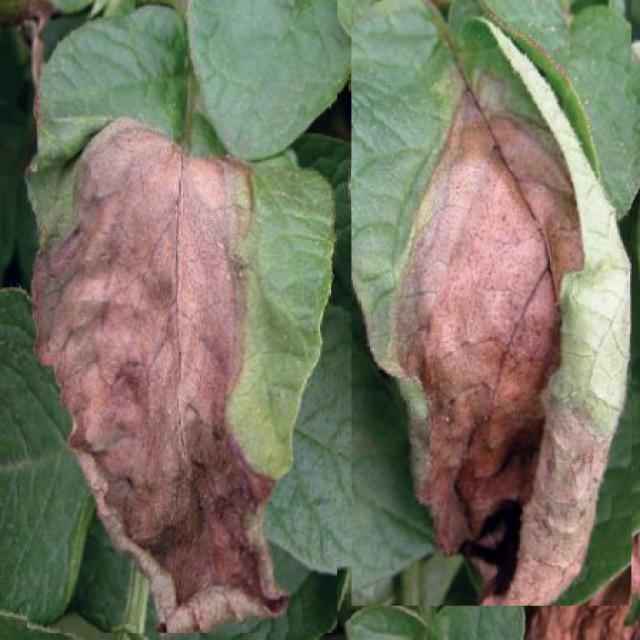Late Blight: (27, 0, 337, 633), (351, 1, 632, 606)
